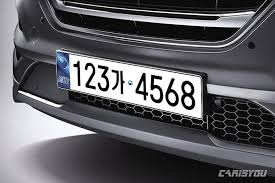car: (48, 46, 207, 124)
